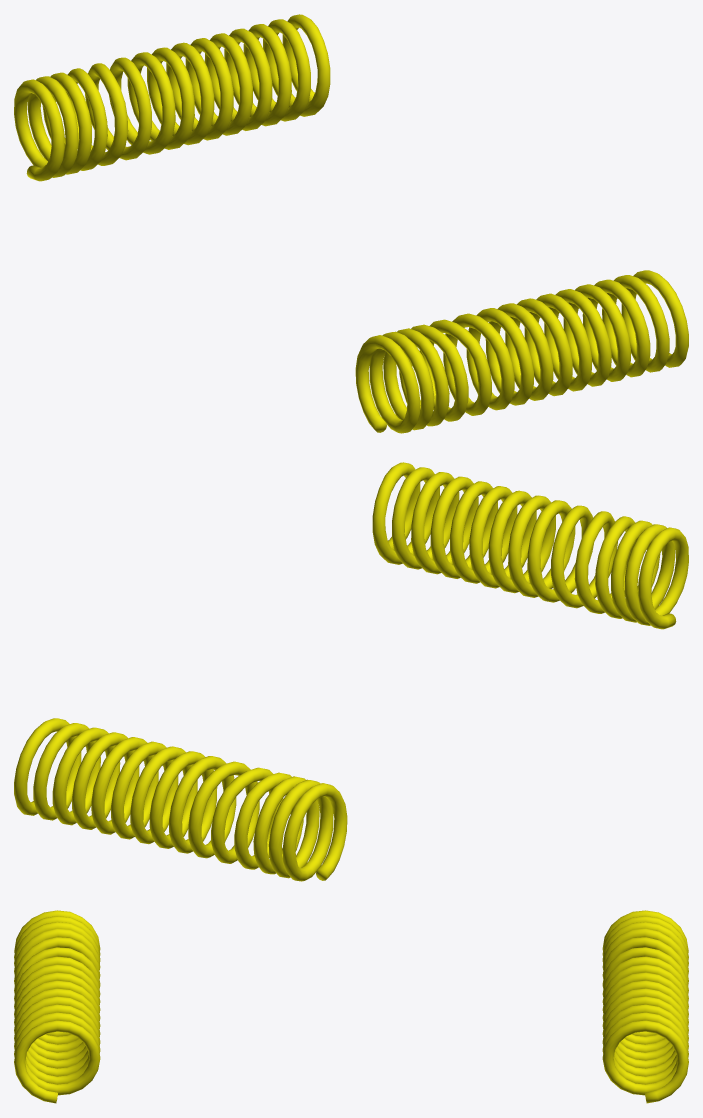
File: millSpring.glb
3 renders of one model, top to bottom at view 1: azimuth 30°, elevation 25°; view 2: azimuth 150°, elevation 25°; view 3: azimuth 270°, elevation 25°, orthographic. The views are drawn at different scales.
Parts seen in each view (by area): view 1: spring; view 2: spring; view 3: spring.
Part boxes in pixels (<box>): spring: <box>14,14,688,433</box>; spring: <box>14,462,688,881</box>; spring: <box>14,910,688,1103</box>.
Bounding box in the file's own units: 0.5933 × 0.1783 × 1.39.
